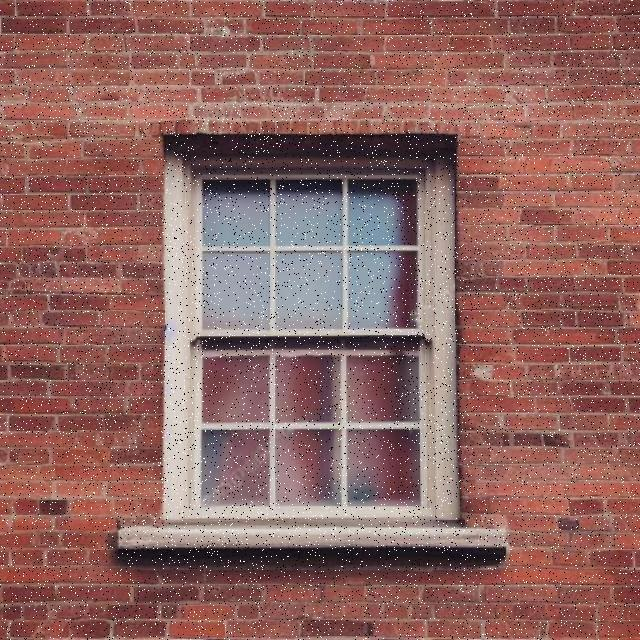window: (162, 130, 460, 522)
